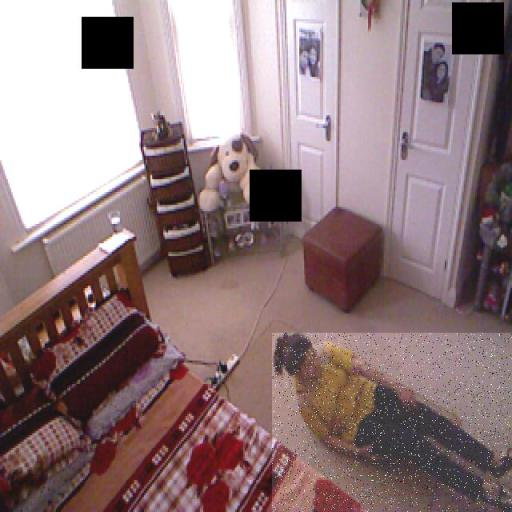Fall: (272, 333, 512, 512)
